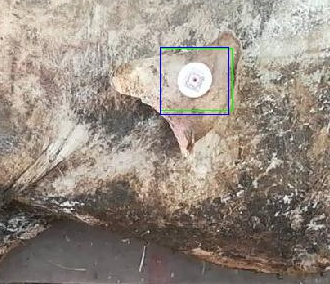text: (160, 48, 232, 110)
